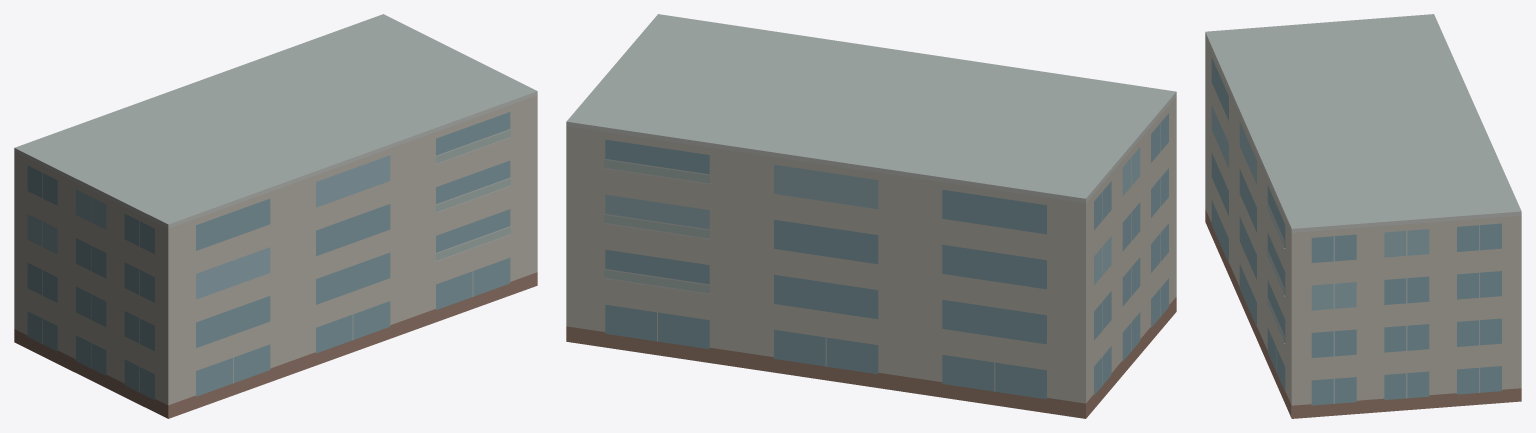
File: survey-upis-32950981.glb
3 views of the same model, side by side, from view 1: azimuth 30°, elevation 25°; view 2: azimuth 150°, elevation 25°; view 3: azimuth 270°, elevation 25° (orthographic). The views are drawn at different scales.
Visible parts, largest first — view 1: survey-upis-32950981.tmp; view 2: survey-upis-32950981.tmp; view 3: survey-upis-32950981.tmp.
Boxes of the visible parts, left/top/right/bottom form: survey-upis-32950981.tmp: left=14, top=14, right=537, bottom=418; survey-upis-32950981.tmp: left=566, top=14, right=1176, bottom=418; survey-upis-32950981.tmp: left=1205, top=14, right=1521, bottom=418.
Bounding box in the file's own units: 28.63 × 11.8 × 17.82.
